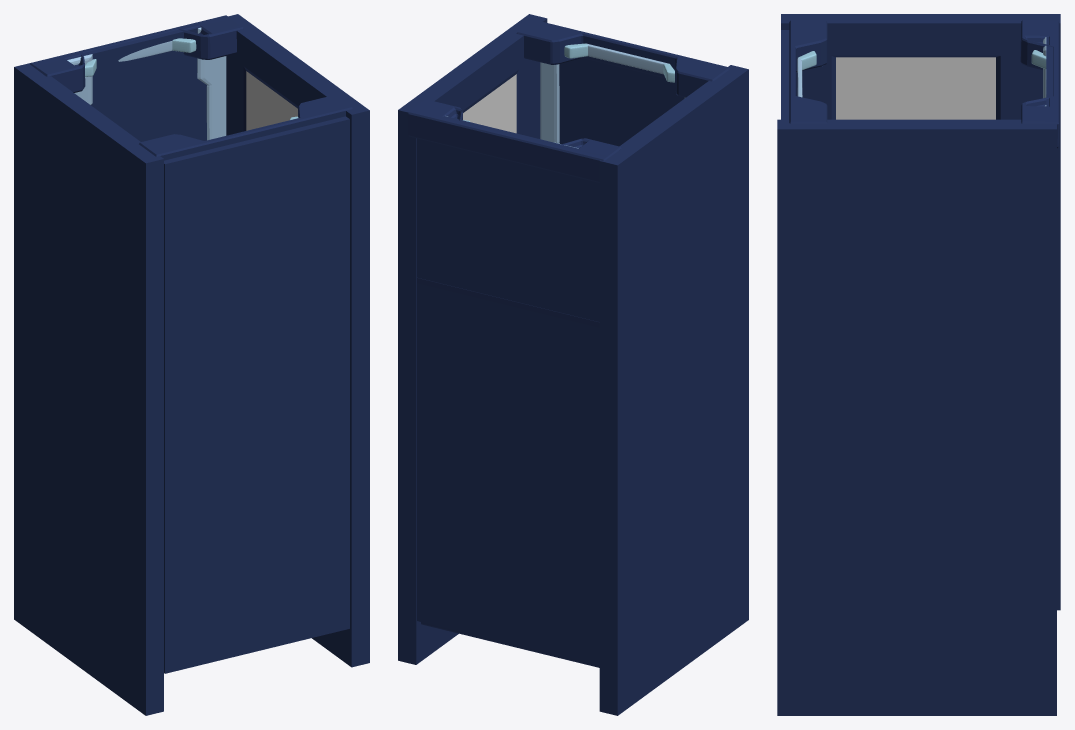
File: Corridor.fbx
The picture shows the model from 3 angles, left to right: view 1: azimuth 30°, elevation 25°; view 2: azimuth 150°, elevation 25°; view 3: azimuth 270°, elevation 25°; orthographic projection. The views are drawn at different scales.
Visible parts, largest first — view 1: Wall1, Floorboard2, Floorboard1, Wall2, Ridge_Outside2, Ridge_Outside1; view 2: Wall2, Floorboard2, Floorboard1, Wall1, Ridge_Outside2, Ridge_Outside1; view 3: Floorboard1, Floorboard2, Ridge_Outside1, Ridge_Outside2, Wall1, Wall2.
Boxes of the visible parts, x1,y1,x2,y2 form: Wall1: (164, 116, 349, 673); Floorboard2: (14, 63, 163, 715); Floorboard1: (226, 14, 369, 667); Wall2: (65, 26, 226, 141); Ridge_Outside2: (30, 15, 243, 92); Ridge_Outside1: (139, 95, 352, 160); Wall2: (417, 116, 599, 665); Floorboard2: (599, 65, 748, 715); Floorboard1: (398, 14, 547, 664); Wall1: (540, 58, 685, 146); Ridge_Outside2: (407, 99, 621, 667); Ridge_Outside1: (516, 20, 729, 97); Floorboard1: (777, 119, 1056, 715); Floorboard2: (781, 14, 1060, 610); Ridge_Outside1: (789, 20, 827, 123); Ridge_Outside2: (1020, 20, 1059, 148); Wall1: (781, 30, 789, 119); Wall2: (1043, 37, 1053, 106).
Size of the model in its own units: 3448 by 8218 by 3587.
